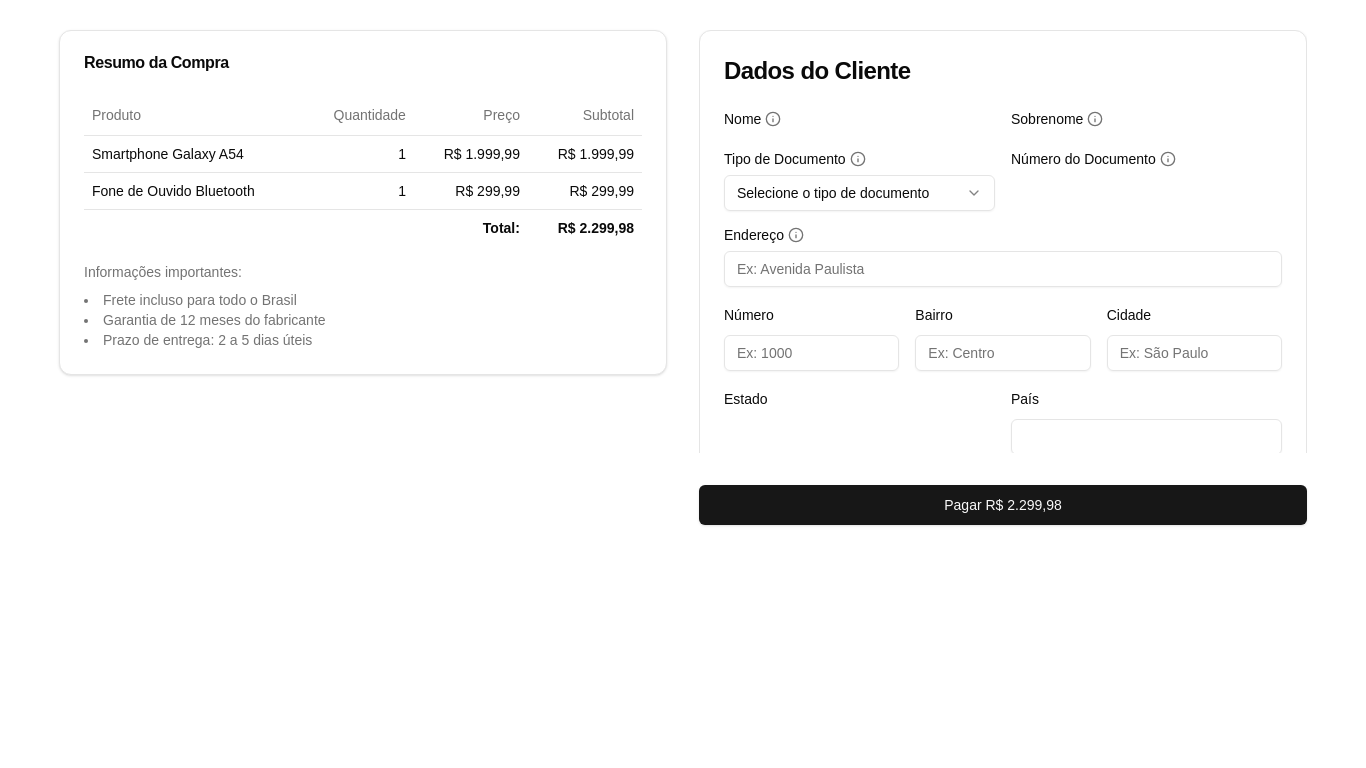
Test: Checkout Flow › should validate required fields
(page scrolled)
Step 1. Click the submit button → (1003, 505), box [699,485,1307,525]
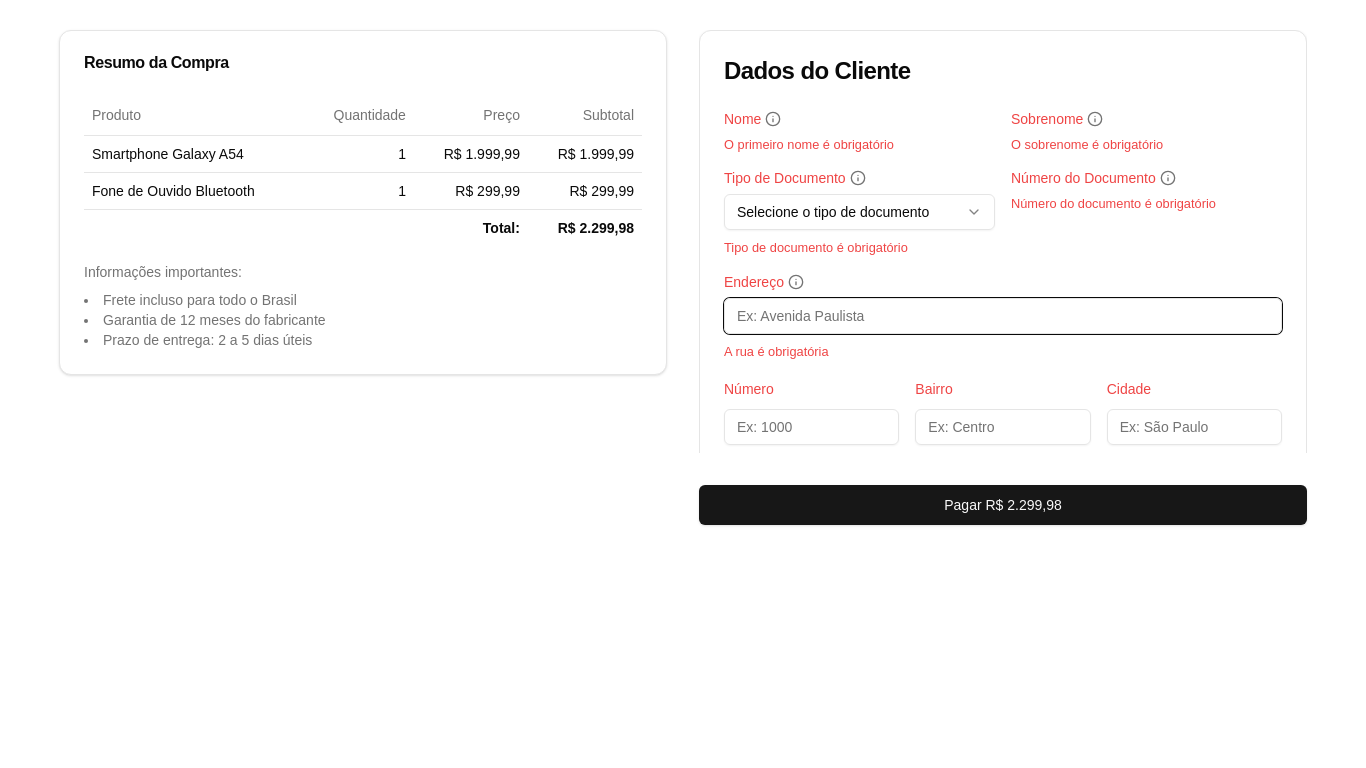
Expected: the text "O primeiro nome é obrigatório" is shown, [724,137,894,152]
